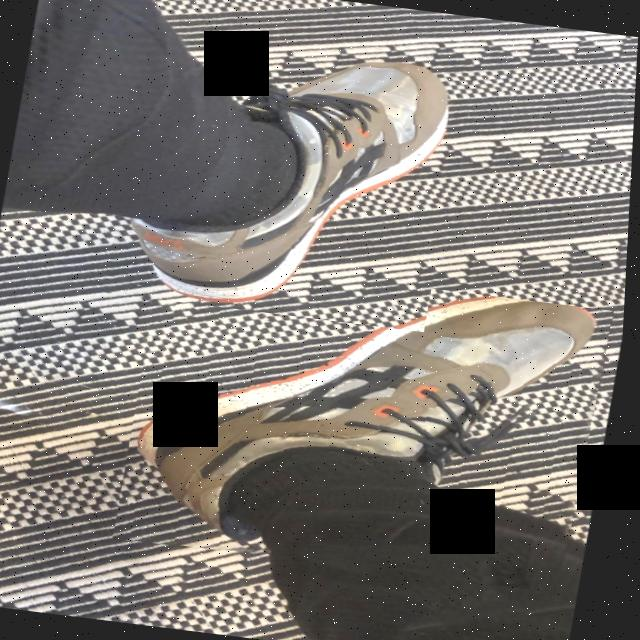shoe: (115, 255, 619, 594), (105, 23, 473, 332)
